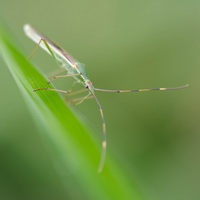insect: (23, 24, 188, 172)
